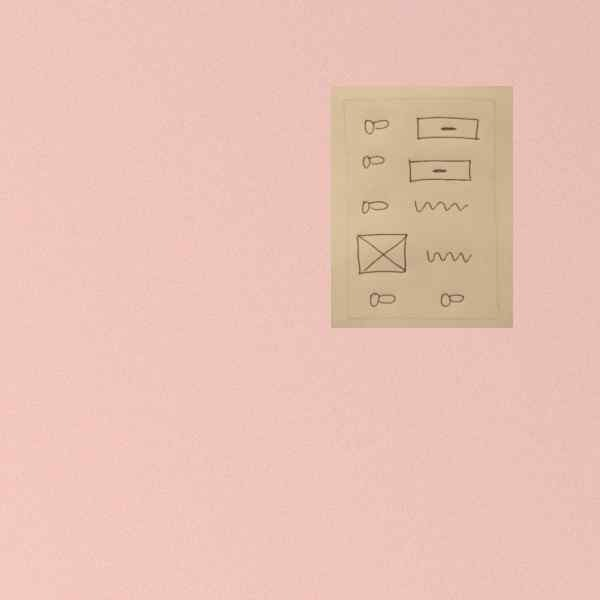image: (354, 230, 409, 278)
switch: (365, 288, 400, 311), (360, 196, 390, 220), (361, 116, 392, 138), (436, 291, 467, 310), (358, 152, 387, 172)
text: (411, 198, 471, 220), (423, 246, 474, 267)
text_input: (405, 156, 477, 186), (410, 114, 484, 143)
